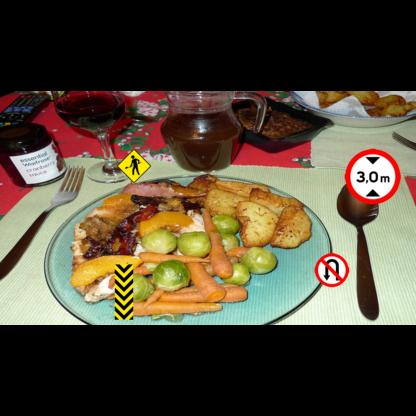A-24: (117, 149, 151, 183)
O-MP: (115, 264, 133, 320)
R-15: (345, 149, 401, 204)
R-5a: (315, 253, 349, 287)
